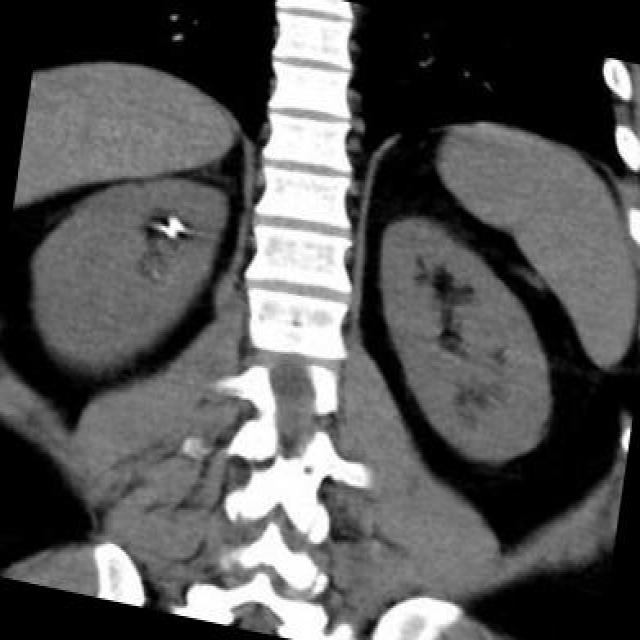Tas_Var: (146, 221, 187, 243), (164, 213, 188, 231)
